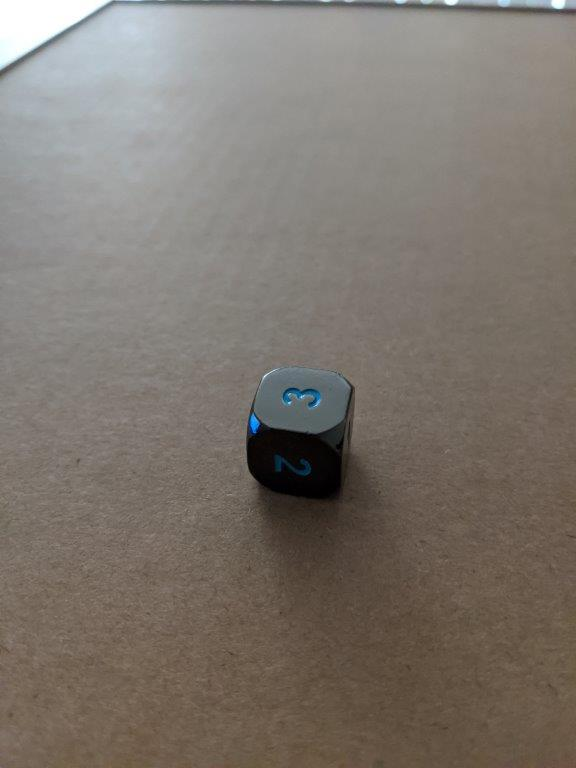d6-3: (244, 363, 354, 499)
